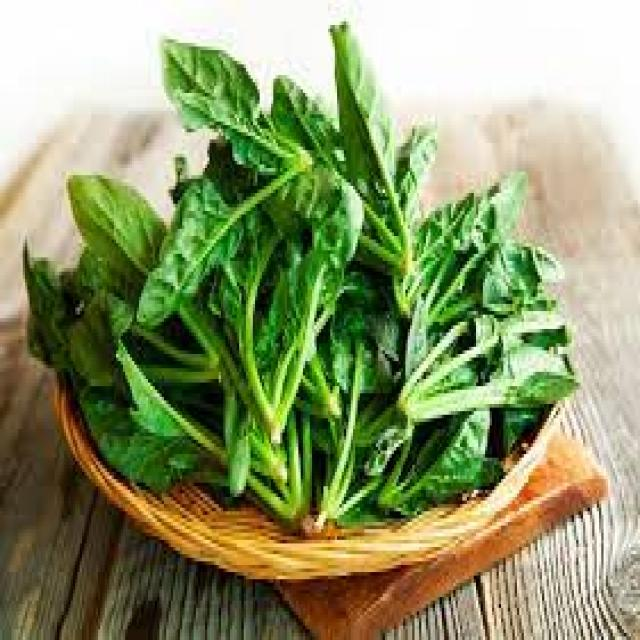Spinach bagged/loose: (25, 25, 579, 533)
